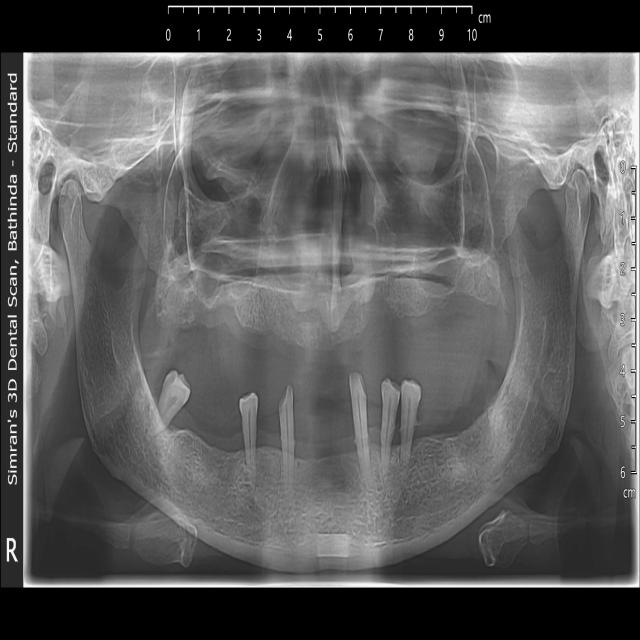Missing teeth: (188, 281, 473, 333), (426, 386, 485, 451), (300, 419, 353, 478), (188, 403, 228, 472)
